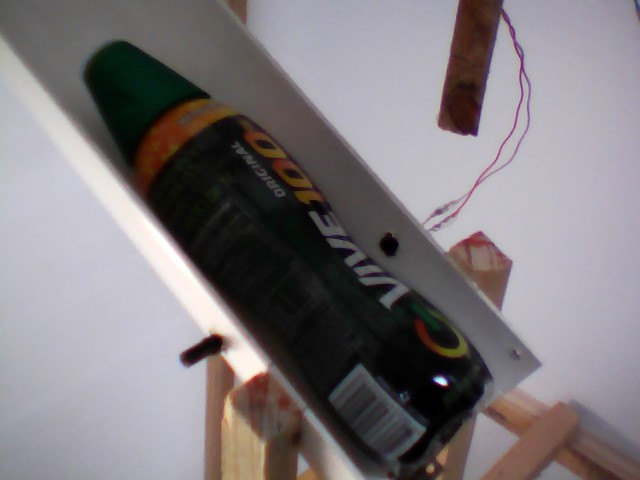plastico: (67, 33, 509, 480)
